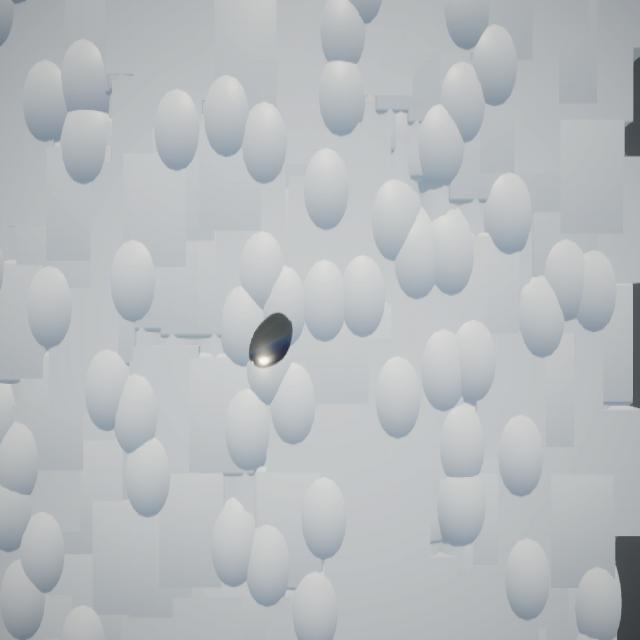top_spoon: (250, 314, 294, 369)
